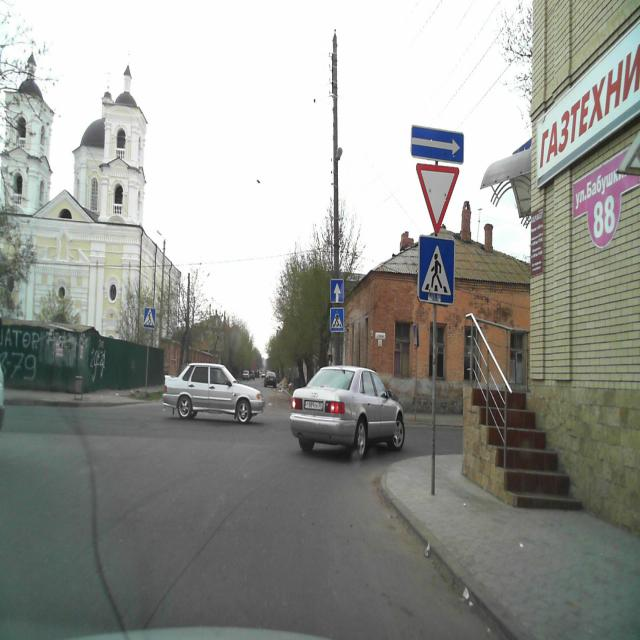road sign: (416, 162, 460, 230), (419, 236, 454, 302), (410, 124, 464, 165), (330, 306, 344, 332), (331, 277, 344, 303), (143, 306, 154, 329), (411, 319, 419, 347)
